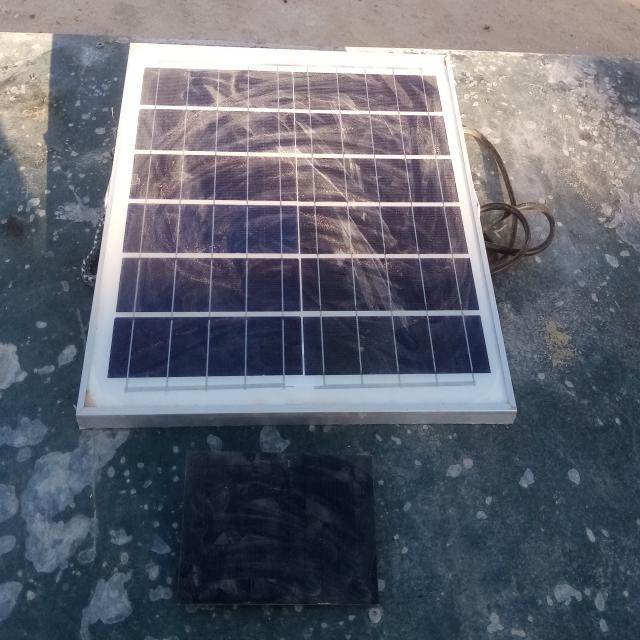faulty: (77, 45, 517, 416), (178, 449, 380, 603)
